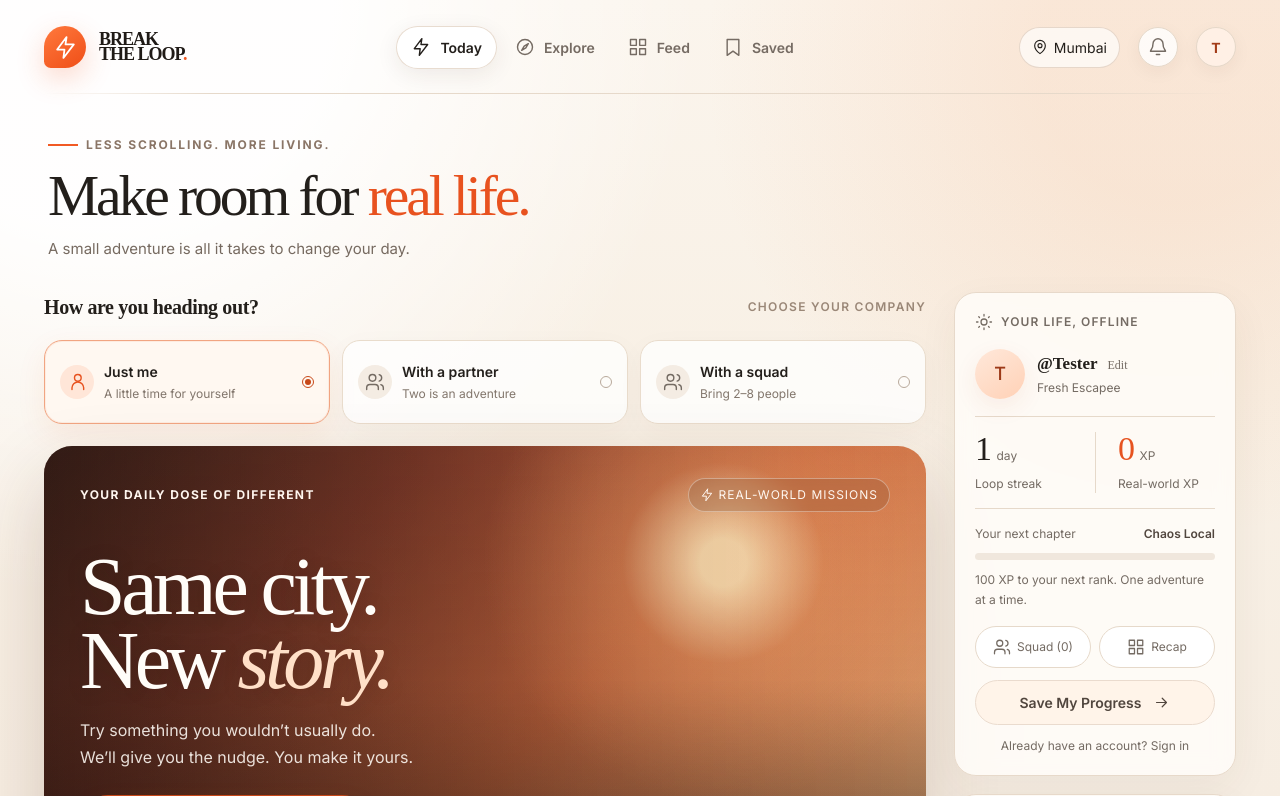
Test case: report flow (non-admin) › lets a player report a feed post
Click the button "Feed". click: {"x": 659, "y": 47}
box: [613,26,705,68]
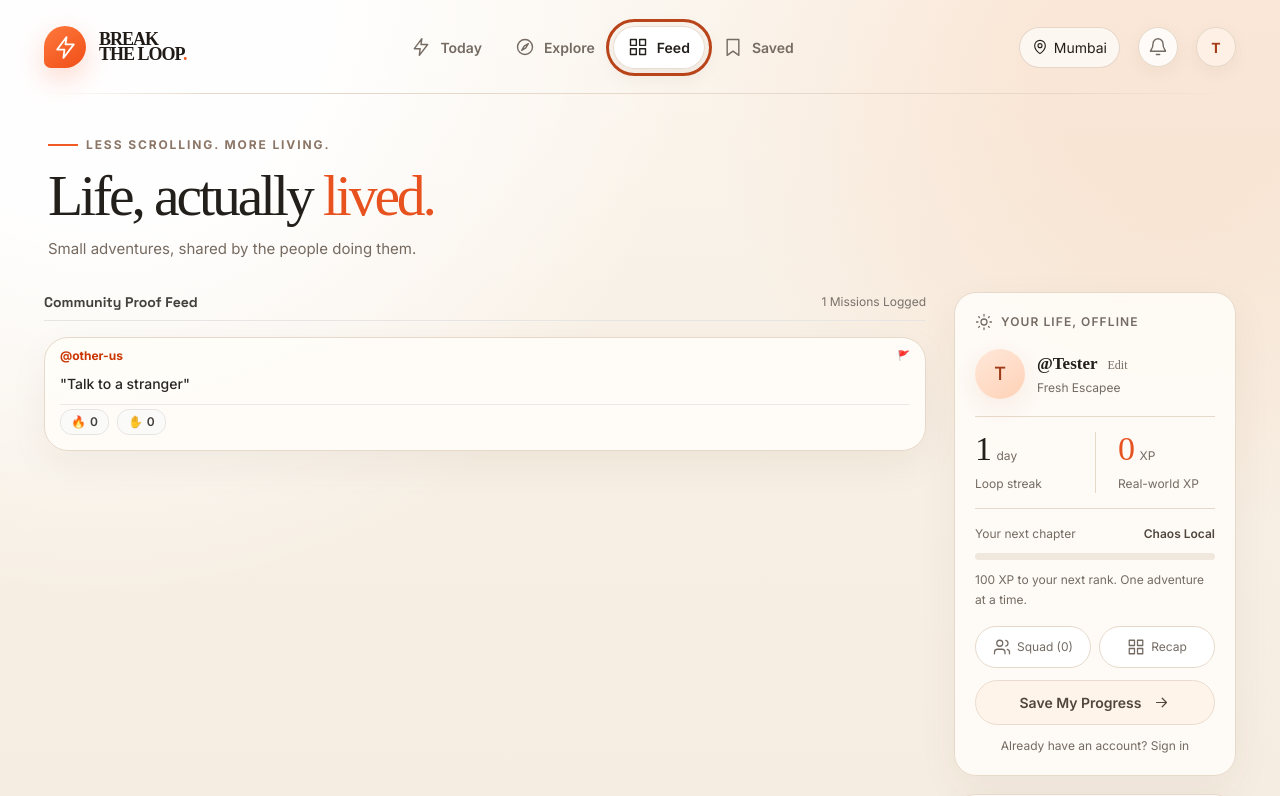
Click the button titled "Report post". click: {"x": 904, "y": 356}
box: [898,348,910,363]
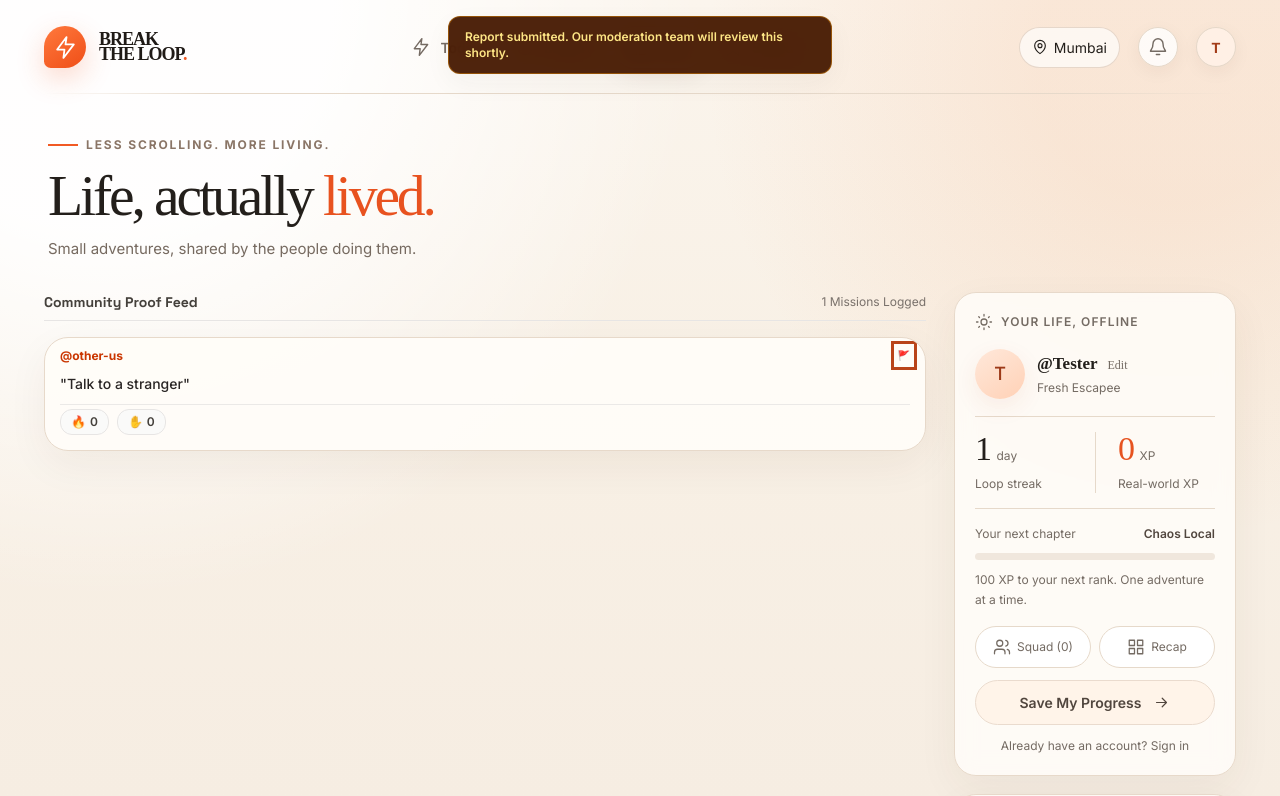
Now the text "Report submitted. Our moderation team will review this shortly." is shown, box [448,16,832,74]
